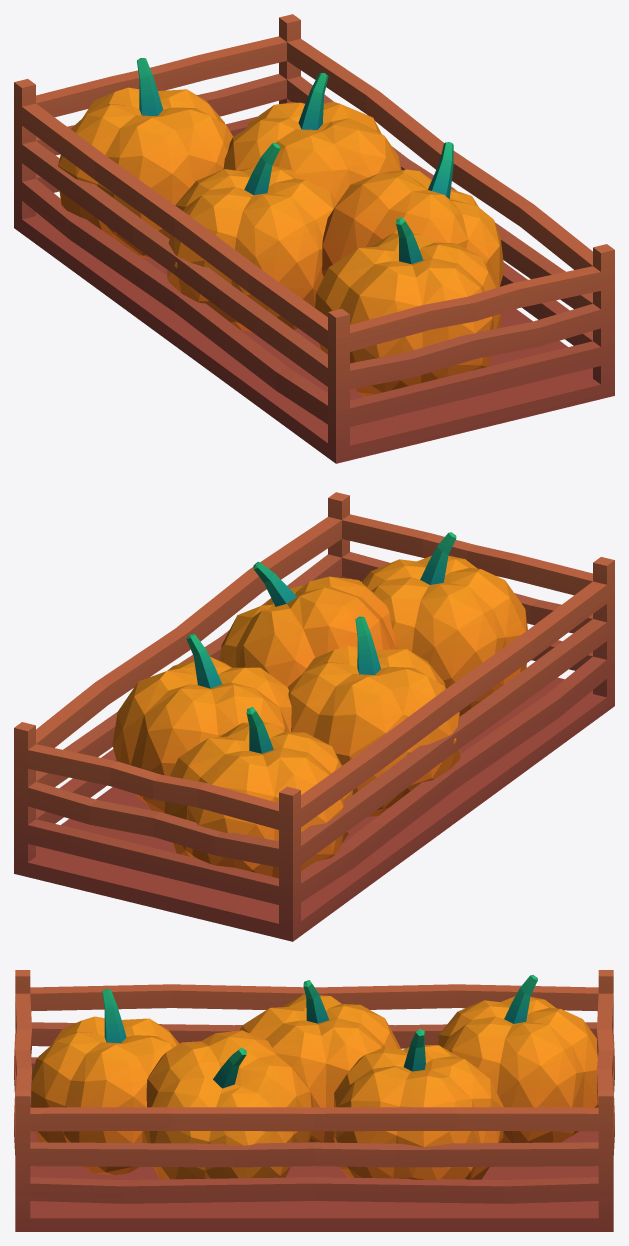
Rendered from crate_pumpkin.glb.
3 views of the same model, one above another, from view 1: azimuth 30°, elevation 25°; view 2: azimuth 150°, elevation 25°; view 3: azimuth 270°, elevation 25° (orthographic). The views are drawn at different scales.
Parts seen in each view (by area): view 1: crate_pumpkin; view 2: crate_pumpkin; view 3: crate_pumpkin.
Boxes of the visible parts, left/top/right/bottom form: crate_pumpkin: left=14, top=14, right=614, bottom=463; crate_pumpkin: left=14, top=492, right=614, bottom=941; crate_pumpkin: left=14, top=970, right=614, bottom=1231.
Size of the model in its own units: 2.04 by 1.24 by 4.02.
1 material, 1 textured.
